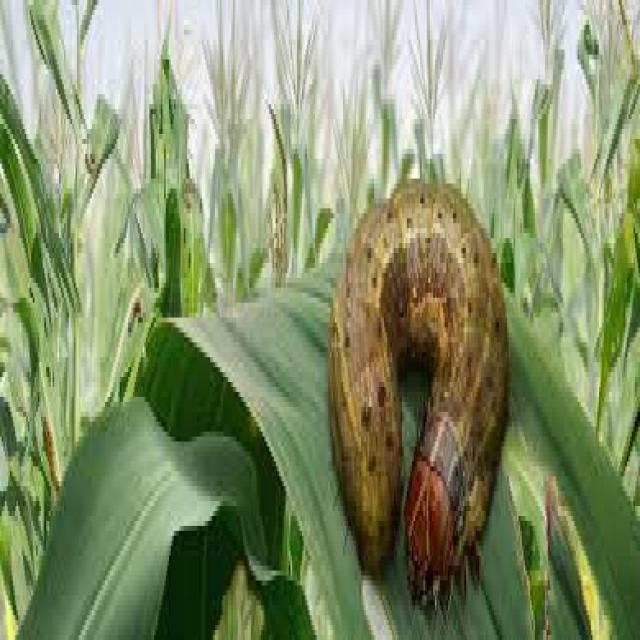Army Worm: (325, 158, 514, 635)
